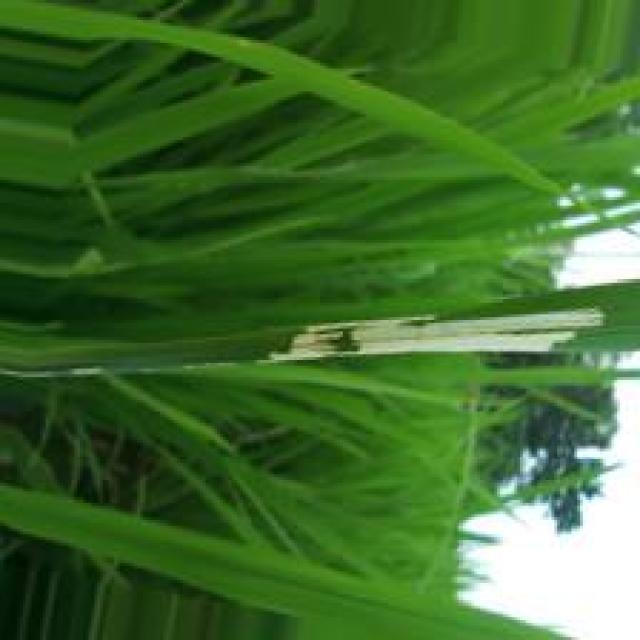Rice_Hispa: (246, 305, 611, 364)
